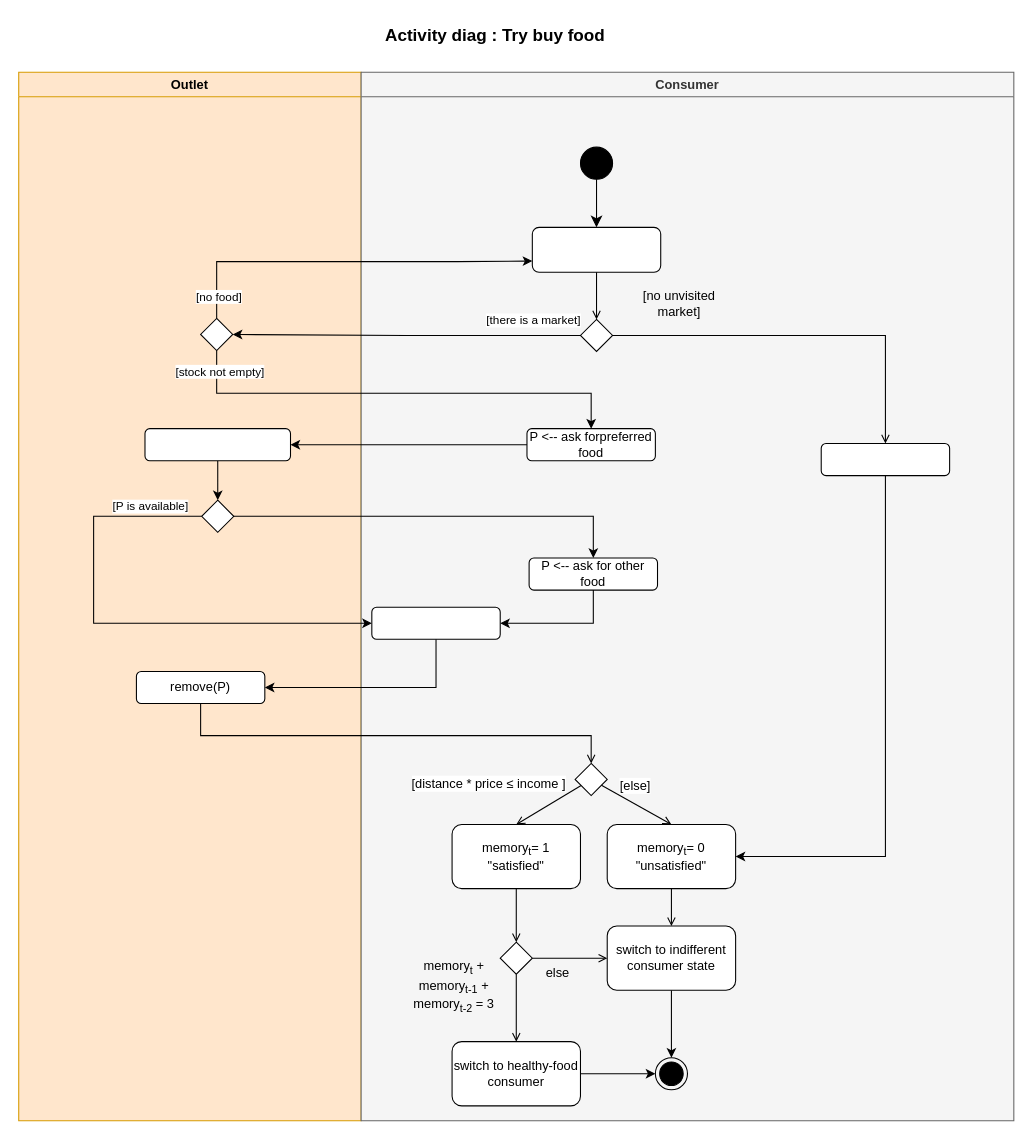
This 1033x1140 diagram has some shape labels left out. Here are the shapes that lost their labels. From the top down, the centre of each, then its label:
point (596, 249): look for the nearest unvisited market
point (217, 444): updateMemDemand(P)
point (885, 459): increase hunger memory
point (435, 622): buy(P)
